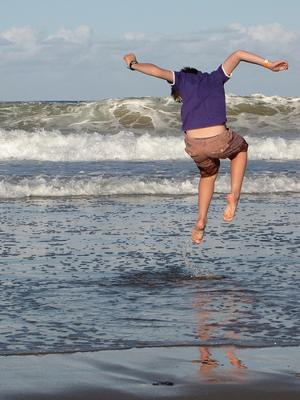person: (124, 53, 291, 243)
